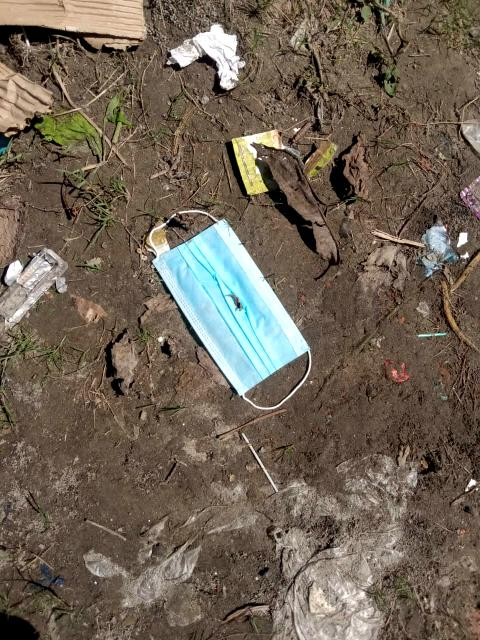mask: (131, 198, 316, 416)
